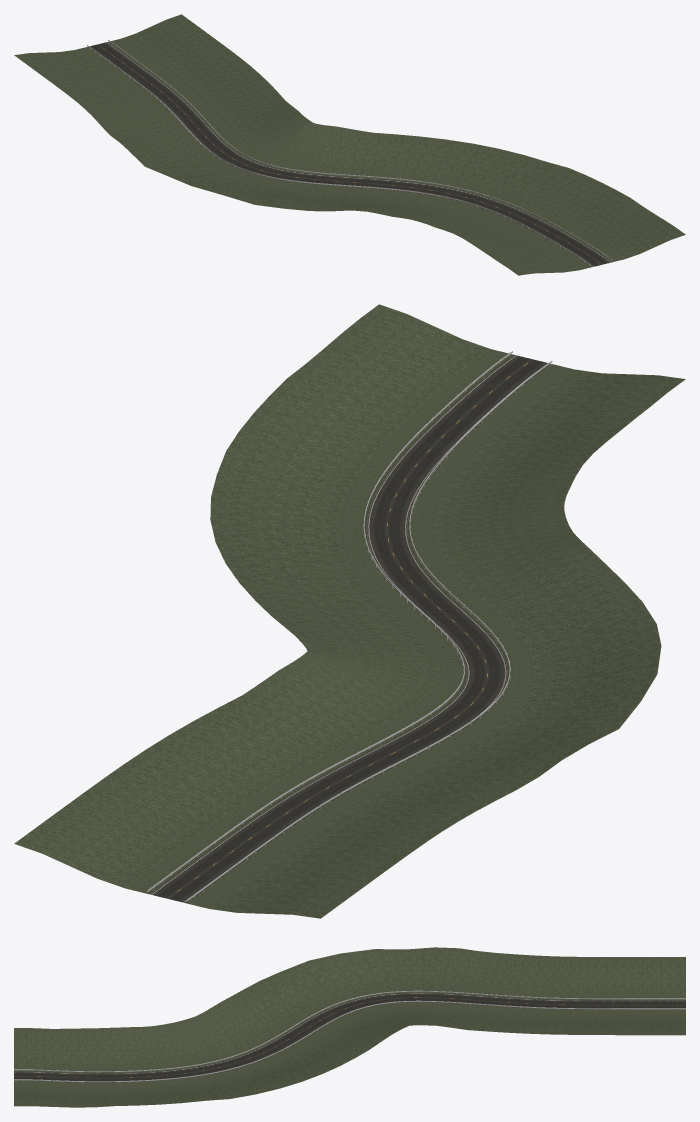
3 renders of one model, top to bottom at view 1: azimuth 30°, elevation 25°; view 2: azimuth 150°, elevation 25°; view 3: azimuth 270°, elevation 25°, orthographic. The views are drawn at different scales.
Parts seen in each view (by area): view 1: Grass, HighWay, GuardRail; view 2: Grass, HighWay, GuardRail; view 3: Grass, HighWay, GuardRail.
Boxes of the visible parts, left/top/right/bottom form: Grass: left=14, top=14, right=685, bottom=275; HighWay: left=88, top=42, right=611, bottom=266; GuardRail: left=87, top=40, right=612, bottom=266; Grass: left=14, top=304, right=685, bottom=918; HighWay: left=148, top=354, right=550, bottom=903; GuardRail: left=147, top=351, right=552, bottom=901; Grass: left=14, top=947, right=685, bottom=1107; HighWay: left=14, top=993, right=685, bottom=1082; GuardRail: left=14, top=990, right=685, bottom=1082.
Size of what is drawn, in the model's own units: 221 by 10.75 by 400.
